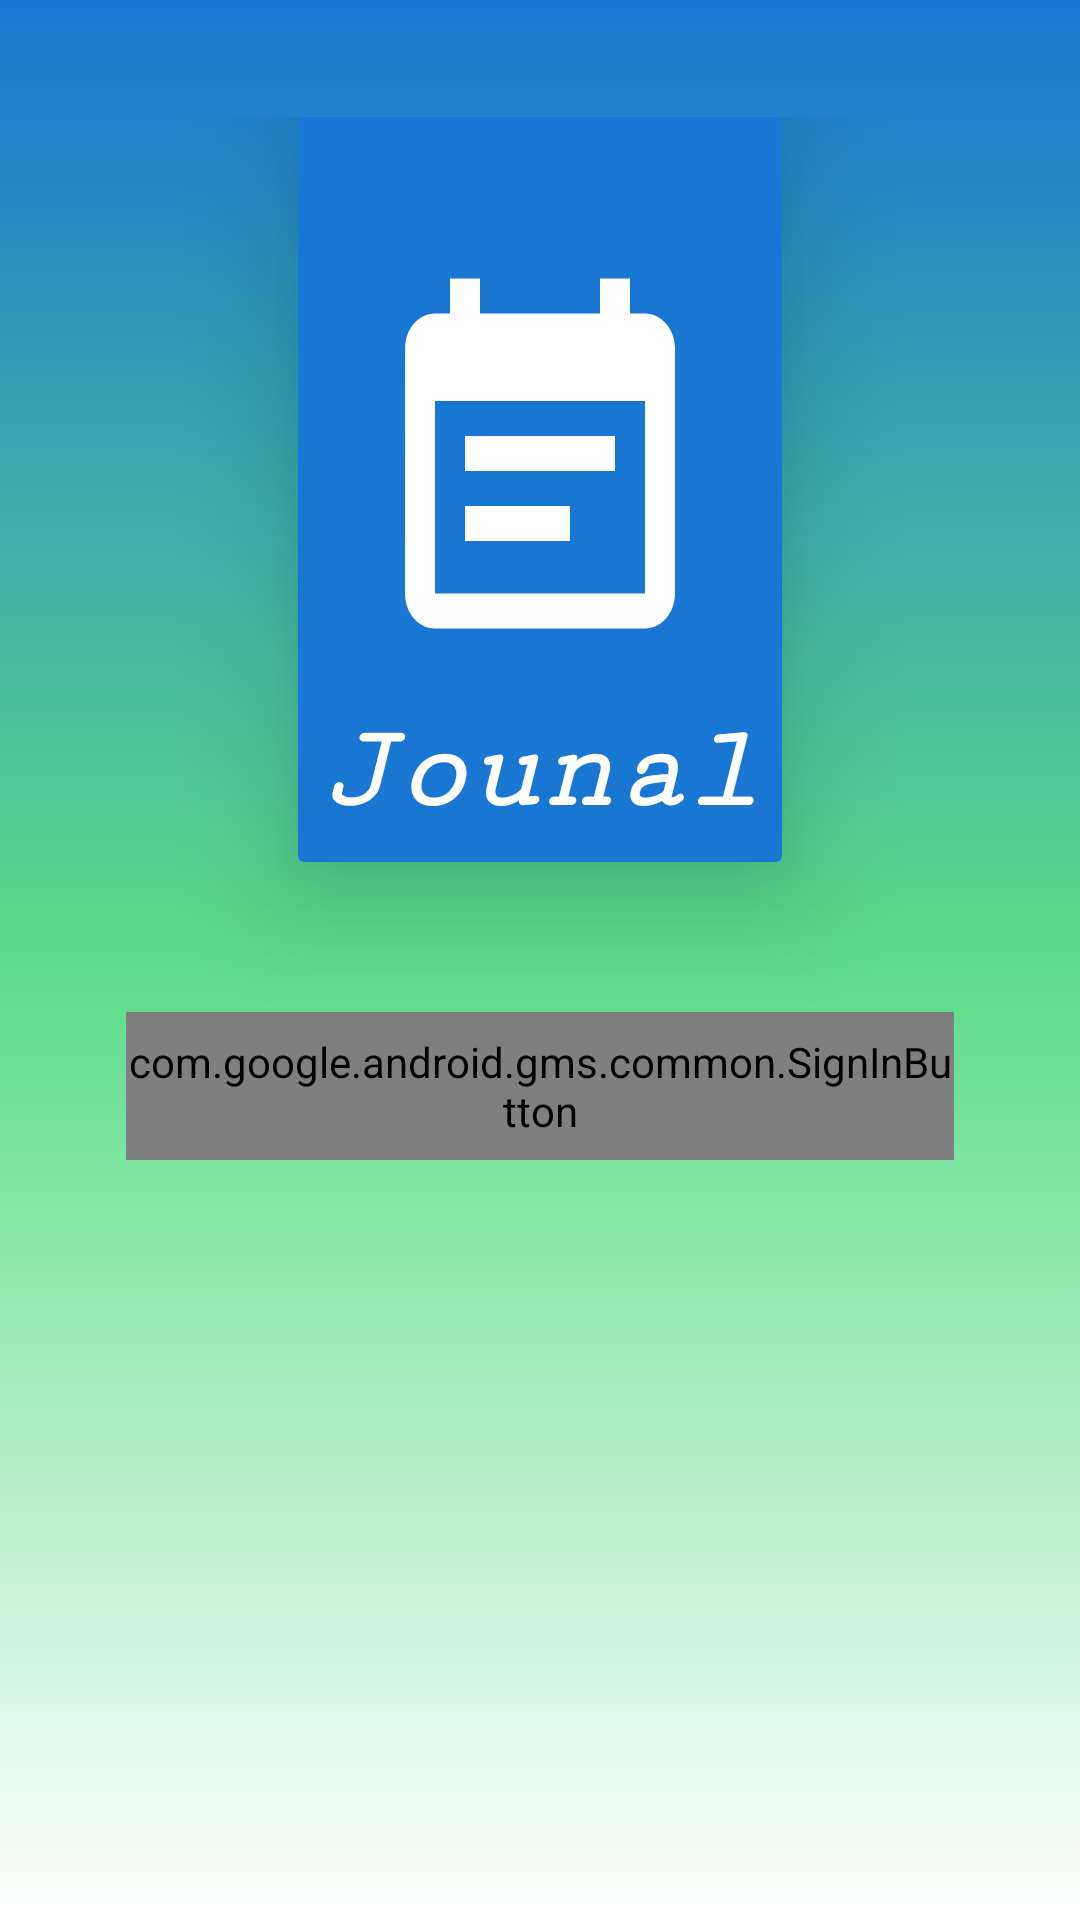

Icons on this 1080×1920 Android screen, each with its box as (x1, y1, x2, y2):
event note: (405, 278, 675, 629)
